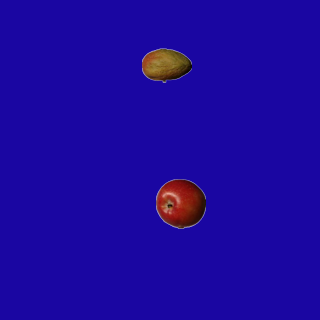Apple Braeburn: (155, 178, 205, 228)
Papaya: (141, 40, 191, 90)
